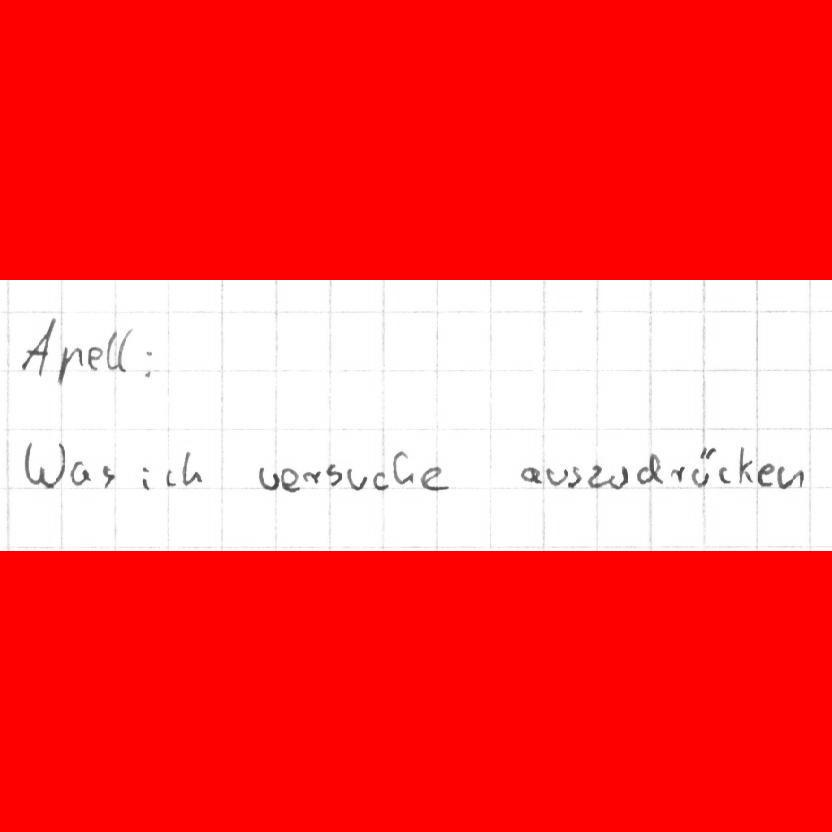Char: (21, 439, 66, 492), (19, 316, 56, 375), (57, 343, 83, 385), (690, 443, 713, 489), (107, 327, 130, 372), (635, 451, 662, 486), (419, 463, 450, 492), (392, 449, 415, 488), (182, 449, 204, 487), (776, 464, 805, 490), (735, 445, 753, 485), (70, 458, 92, 487), (257, 464, 279, 492), (345, 466, 368, 491), (279, 465, 300, 492), (98, 463, 118, 489), (87, 341, 103, 372), (585, 463, 604, 489), (544, 466, 566, 488), (519, 464, 542, 485), (302, 466, 324, 487), (142, 347, 155, 381), (325, 463, 342, 489), (757, 463, 775, 487), (138, 463, 154, 490), (566, 465, 584, 489), (667, 463, 687, 484), (716, 464, 733, 486), (164, 467, 180, 489), (372, 471, 389, 490)
